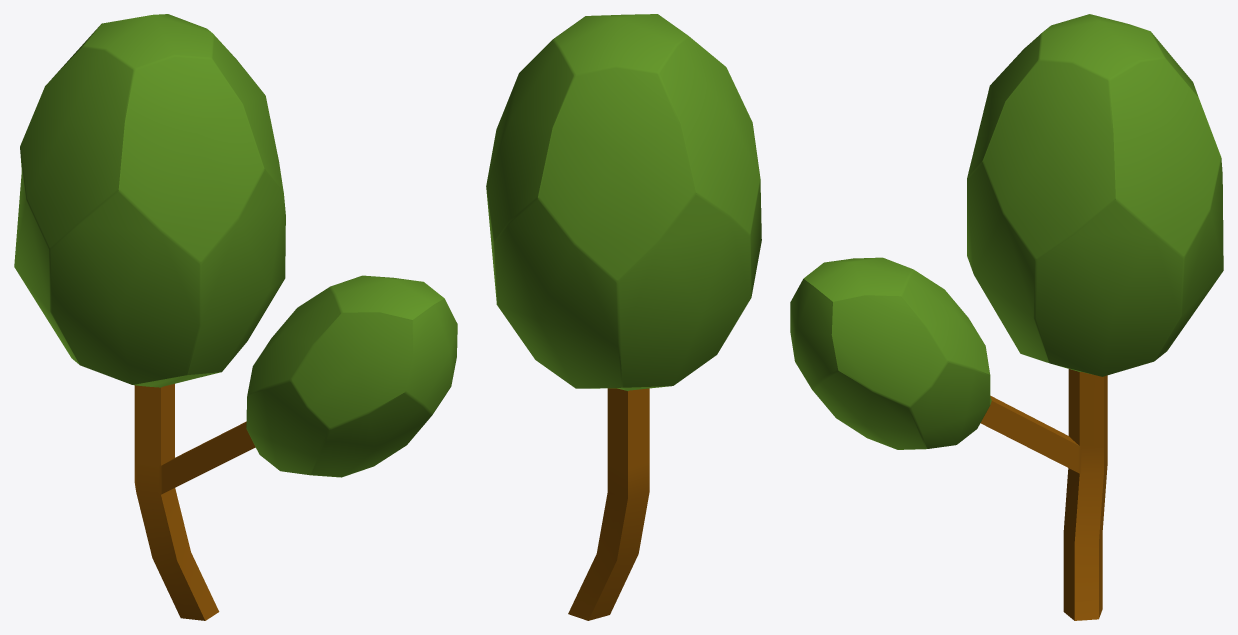
File: smallTree.obj
The picture shows the model from 3 angles, left to right: view 1: azimuth 30°, elevation 25°; view 2: azimuth 150°, elevation 25°; view 3: azimuth 270°, elevation 25°; orthographic projection. The views are drawn at different scales.
Parts seen in each view (by area): view 1: smallTree; view 2: smallTree; view 3: smallTree.
Part boxes in pixels (x1,y1,x2,y2): smallTree: (14, 14, 457, 620); smallTree: (486, 14, 761, 620); smallTree: (790, 14, 1223, 620).
Size of the model in its own units: 3.18 by 6.34 by 4.33.
